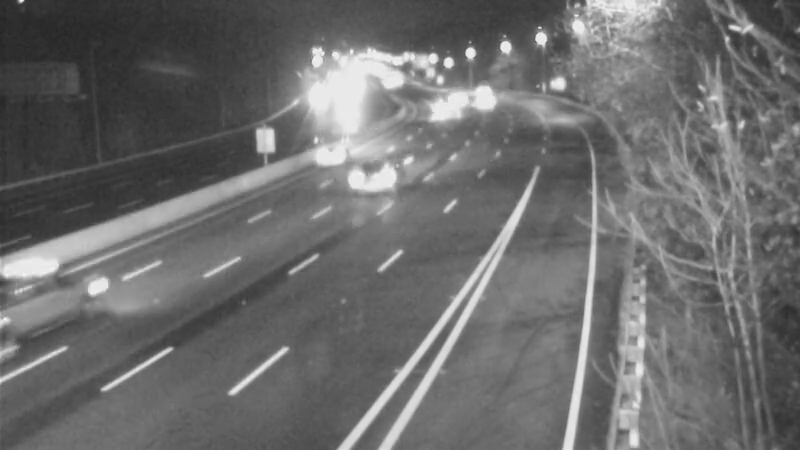vehicle: (281, 113, 361, 193), (335, 136, 415, 216), (4, 259, 84, 339), (430, 72, 480, 122), (455, 78, 505, 128), (417, 91, 467, 141)
